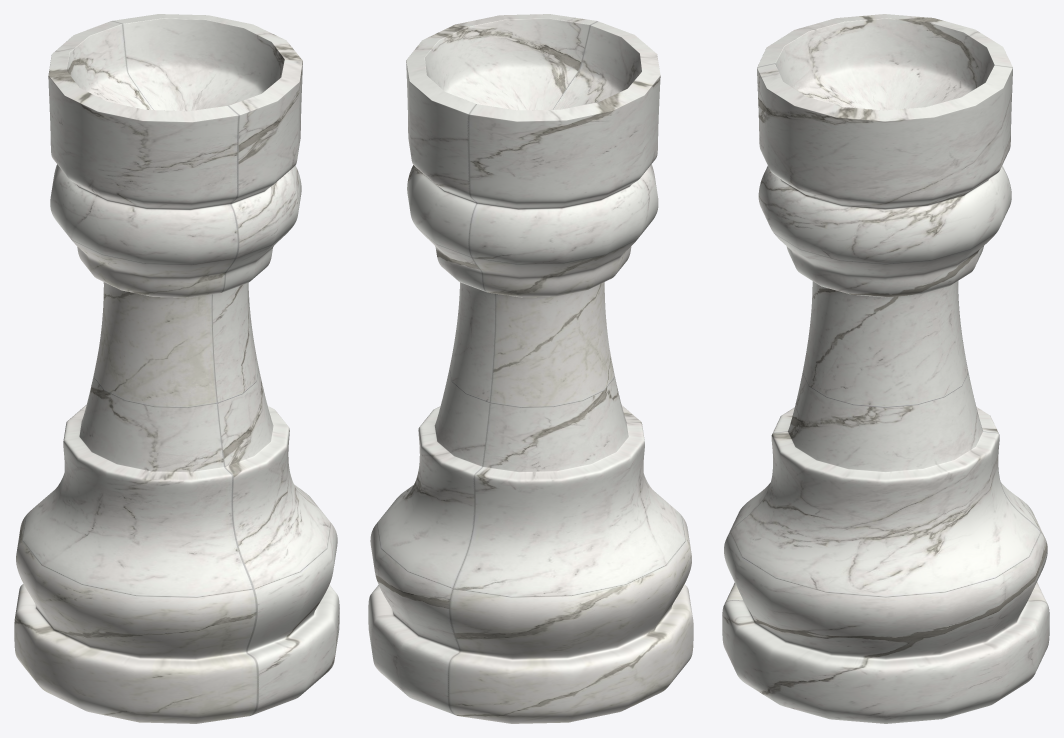
Rendered from ChessTower.fbx.
3 views of the same model, side by side, from view 1: azimuth 30°, elevation 25°; view 2: azimuth 150°, elevation 25°; view 3: azimuth 270°, elevation 25° (orthographic).
Visible parts, largest first — view 1: NurbsPath; view 2: NurbsPath; view 3: NurbsPath.
Boxes of the visible parts, x1,y1,x2,y2 form: NurbsPath: [14, 14, 339, 723]; NurbsPath: [368, 14, 693, 723]; NurbsPath: [722, 14, 1049, 723].
Bounding box in the file's own units: 93.45 × 191 × 93.45.
